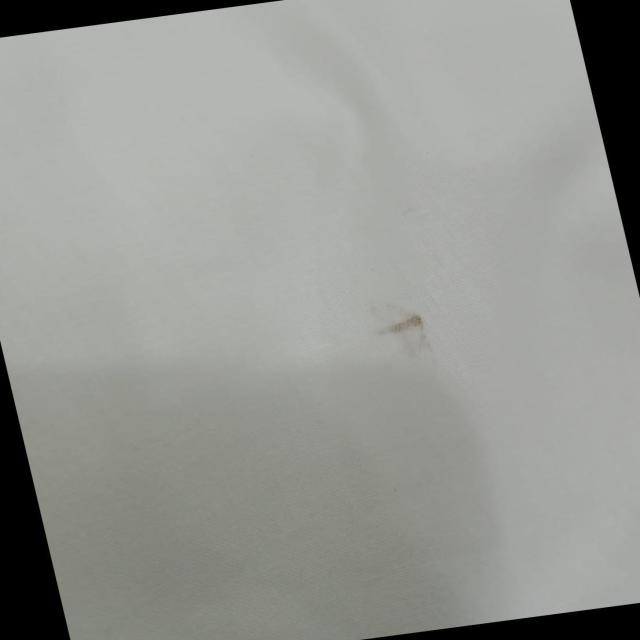stain: (352, 285, 467, 382)
